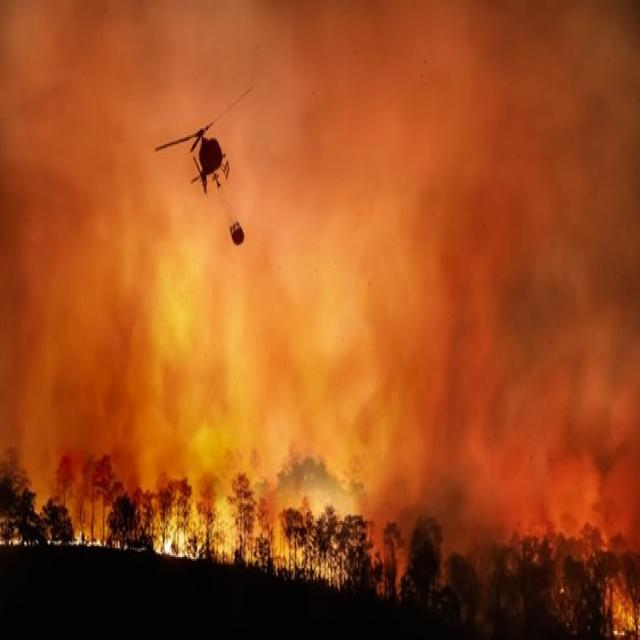Fire: (158, 518, 198, 556), (66, 528, 110, 548)
Smoke: (584, 144, 634, 310), (504, 251, 570, 354)
